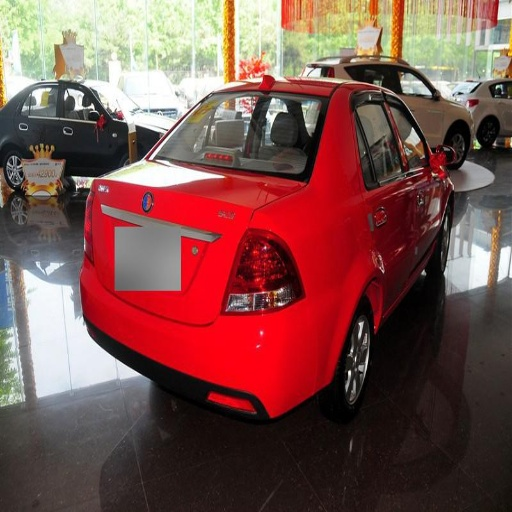back_bumper: (86, 263, 358, 484)
back_right_door: (352, 66, 409, 304), (21, 88, 60, 143)
tailgate: (140, 188, 257, 324)
trunk: (99, 164, 297, 319)
